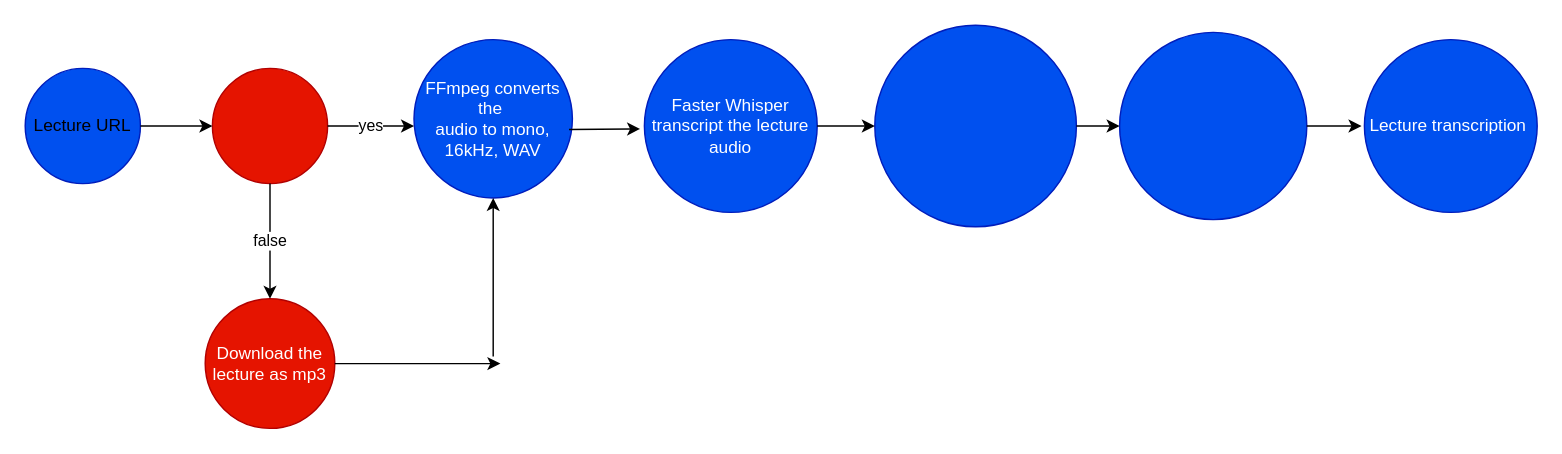
Some shapes in this 1562 by 454 pixel diagram are drawn without their labels. Here are the shapes that lost their labels. From the top down, the centre of each, then its label:
At point (269, 125): "Check if this lecture is downloaded".
At point (974, 125): "Splitting the output txt to chunks (preprocessing the data for Llama model)".
At point (1212, 125): "Llama model process and clean the data".
